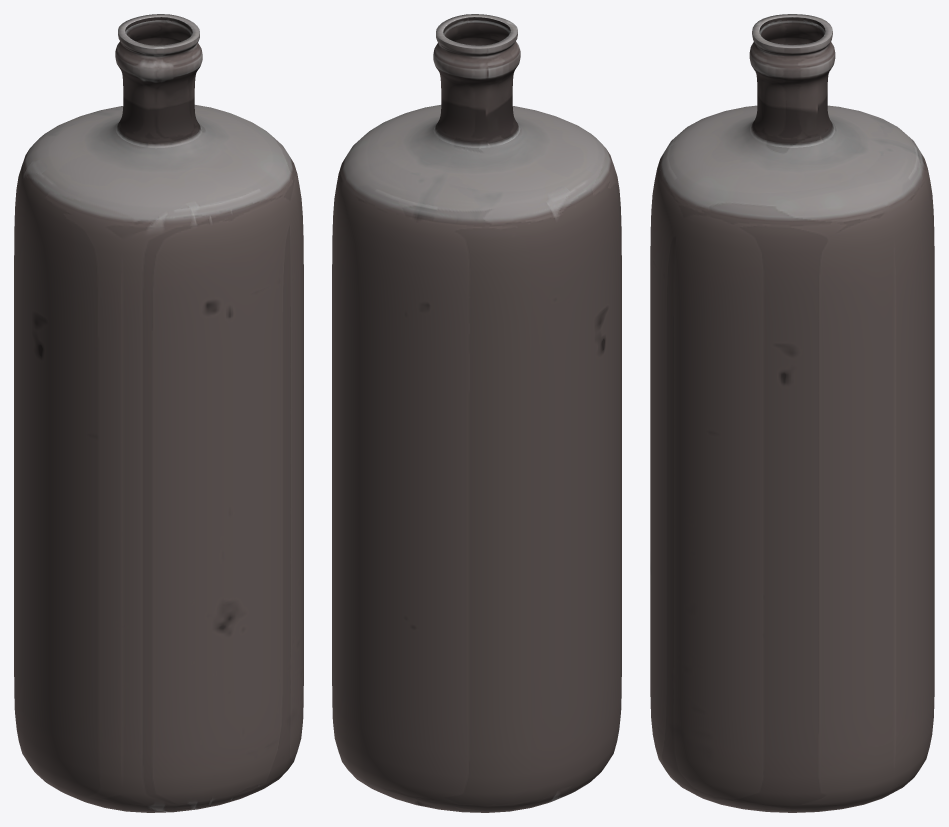
Rendered from 21_BottleOP1.fbx.
3 renders of one model, left to right at view 1: azimuth 30°, elevation 25°; view 2: azimuth 150°, elevation 25°; view 3: azimuth 270°, elevation 25°, orthographic.
Parts seen in each view (by area): view 1: Cube.061; view 2: Cube.061; view 3: Cube.061.
Part boxes in pixels (x1,y1,x2,y2): Cube.061: (14, 14, 303, 812); Cube.061: (332, 14, 621, 812); Cube.061: (650, 14, 934, 812).
Bounding box in the file's own units: 115 × 330 × 115.
